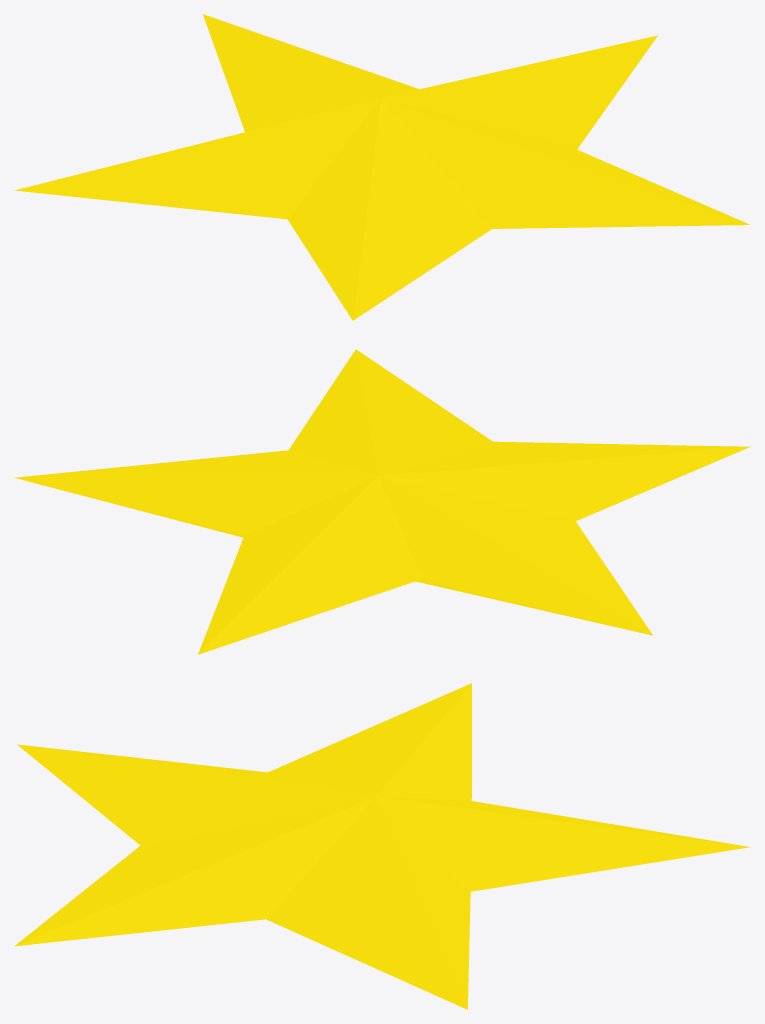
The model's file is star.glb.
3 renders of one model, top to bottom at view 1: azimuth 30°, elevation 25°; view 2: azimuth 150°, elevation 25°; view 3: azimuth 270°, elevation 25°, orthographic. The views are drawn at different scales.
Parts seen in each view (by area): view 1: estrellica; view 2: estrellica; view 3: estrellica.
Part boxes in pixels (<box>): estrellica: <box>14,14,749,320</box>; estrellica: <box>14,349,750,654</box>; estrellica: <box>14,683,750,1009</box>.
Bounding box in the file's own units: 4.22 × 0.6102 × 4.02.
